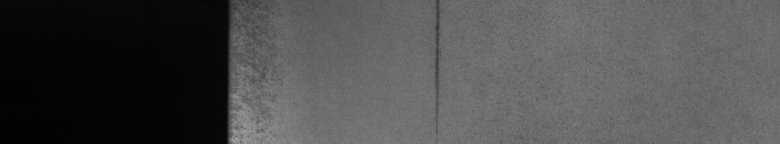hd: (431, 4, 444, 128)
